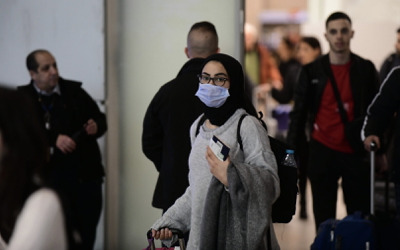with_mask: (194, 71, 230, 107)
without_mask: (37, 60, 60, 88), (329, 25, 352, 52)
